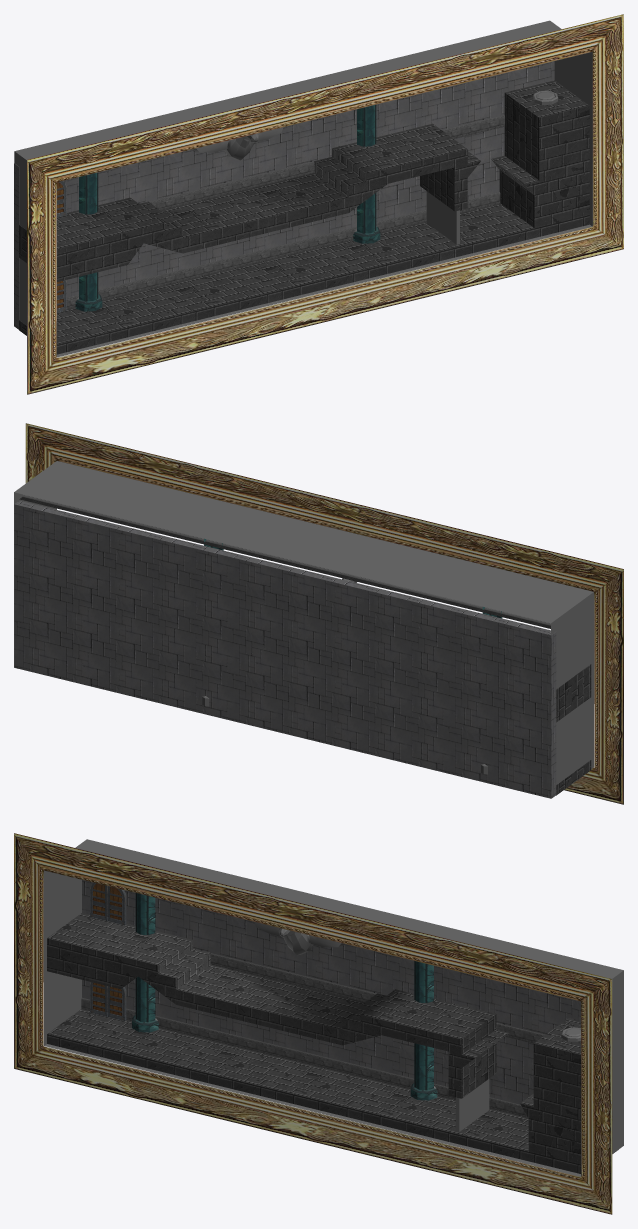
The model's file is Fifth_Room.FBX.
3 renders of one model, top to bottom at view 1: azimuth 30°, elevation 25°; view 2: azimuth 150°, elevation 25°; view 3: azimuth 330°, elevation 25°, orthographic.
Parts seen in each view (by area): view 1: Fifth_Room, polySurface403, polySurface412, polySurface420, polySurface411, polySurface399, polySurface406, polySurface468, polySurface469, polySurface462, polySurface461, polySurface415 (+1 smaller); view 2: polySurface403, polySurface420, Fifth_Room, polySurface463, polySurface412; view 3: Fifth_Room, polySurface412, polySurface403, polySurface420, polySurface399, polySurface406, polySurface411, polySurface468, polySurface469, polySurface462, polySurface461, polySurface415 (+5 smaller).
Part boxes in pixels (x1,y1,x2,y2): Fifth_Room: (27,14,623,394); polySurface403: (14,61,554,329); polySurface412: (19,123,480,281); polySurface420: (14,20,592,357); polySurface411: (491,80,589,228); polySurface399: (19,255,321,354); polySurface406: (287,203,589,289); polySurface468: (66,192,500,308); polySurface469: (149,115,504,210); polySurface462: (357,104,376,233); polySurface461: (79,172,98,301); polySurface415: (426,191,459,244); polySurface403: (14,500,556,798); polySurface420: (14,461,593,784); Fifth_Room: (25,423,623,804); polySurface463: (19,494,550,628); polySurface412: (556,664,591,722); Fifth_Room: (14,833,612,1214); polySurface412: (47,913,508,1098); polySurface403: (82,880,580,1104); polySurface420: (44,839,623,1176); polySurface399: (47,1009,349,1108); polySurface406: (315,1074,618,1173); polySurface411: (520,1018,580,1164); polySurface468: (81,997,527,1117); polySurface469: (210,953,544,1043); polySurface462: (414,961,433,1090); polySurface461: (135,893,155,1022); polySurface415: (456,1079,489,1131).
Size of the model in its own units: 69.28 by 26.08 by 8.76.
